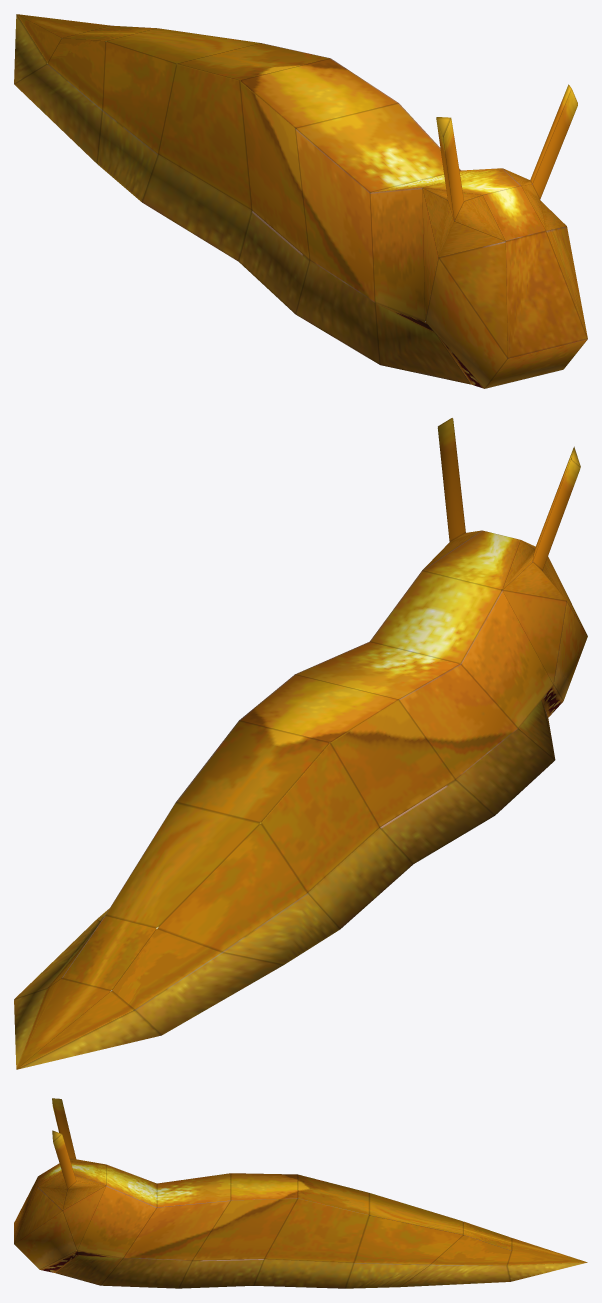
3 renders of one model, top to bottom at view 1: azimuth 30°, elevation 25°; view 2: azimuth 150°, elevation 25°; view 3: azimuth 270°, elevation 25°, orthographic. The views are drawn at different scales.
Visible parts, largest first — view 1: T1L5M009_15; view 2: T1L5M009_15; view 3: T1L5M009_15.
Part boxes in pixels (x1,y1,x2,y2): T1L5M009_15: (14, 14, 587, 388); T1L5M009_15: (14, 418, 587, 1069); T1L5M009_15: (14, 1098, 587, 1288).
Size of the model in its own units: 0.5742 by 0.7546 by 2.64.
